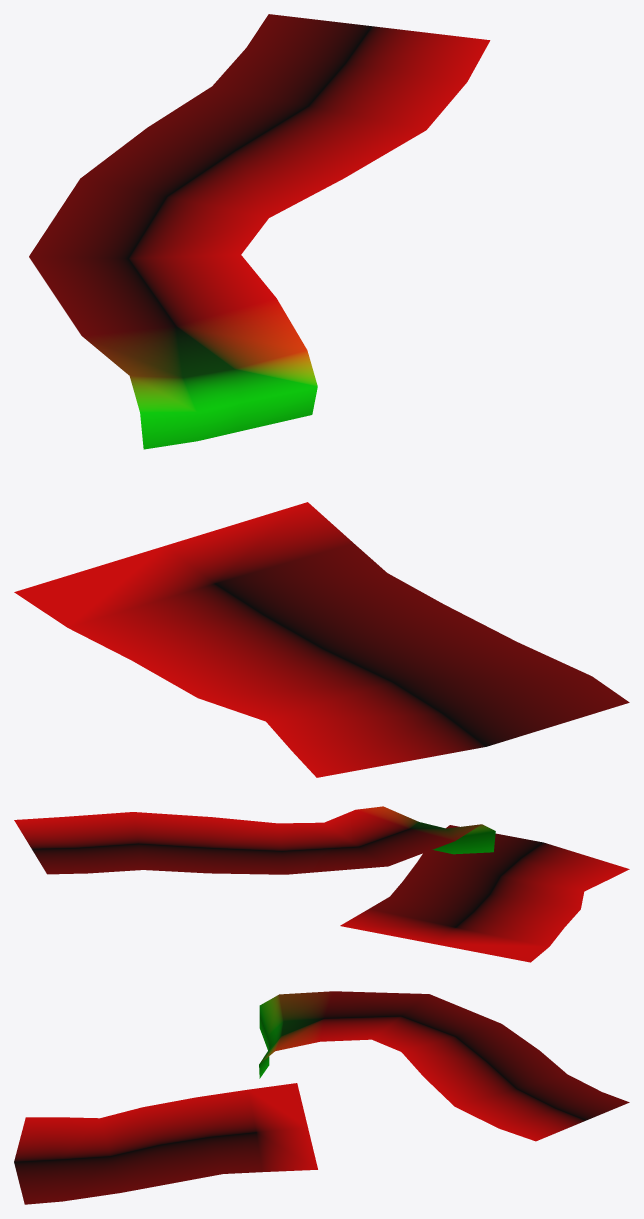
The model's file is Water.fbx.
3 renders of one model, top to bottom at view 1: azimuth 30°, elevation 25°; view 2: azimuth 150°, elevation 25°; view 3: azimuth 270°, elevation 25°, orthographic. The views are drawn at different scales.
Visible parts, largest first — view 1: Water_Collider; view 2: Water_Collider; view 3: Water_Collider.
Part boxes in pixels (box(x1,y1,x2,y2)): Water_Collider: box(14, 14, 629, 777); Water_Collider: box(14, 806, 629, 962); Water_Collider: box(14, 991, 629, 1204).
Size of the model in its own units: 67.96 by 24.7 by 92.48.
